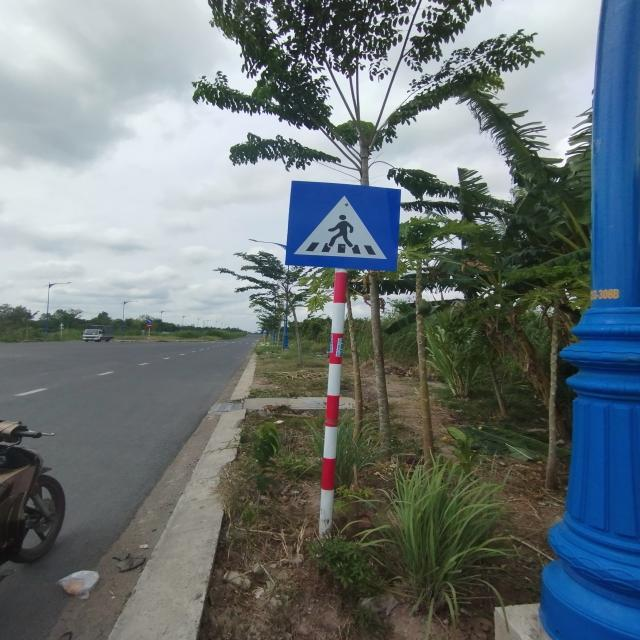Giao_Nhau_Duong_Uu_Tien: (285, 180, 401, 270)
